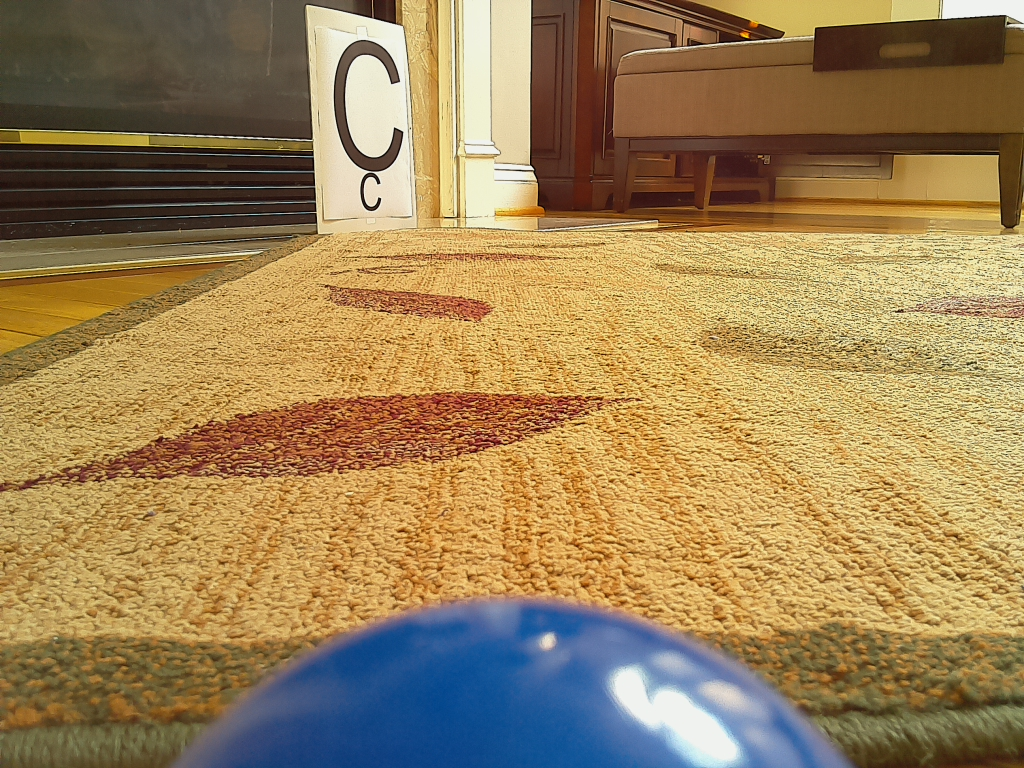letter: (334, 41, 402, 171)
